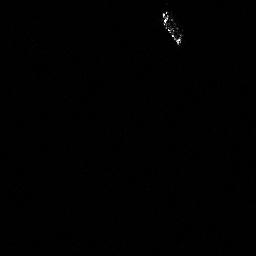ship: (162, 11, 181, 45)
